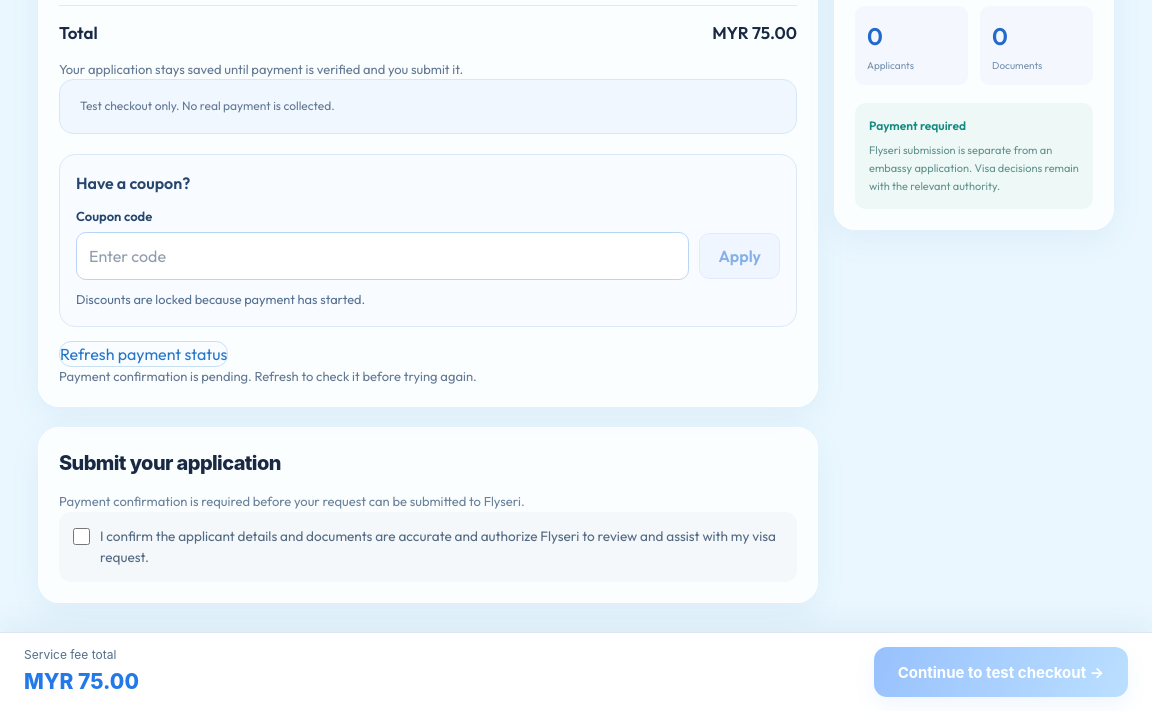
Test: visa payment before submission › keeps pending payment blocked and allows submission after authoritative refresh
(page scrolled)
Click the checkbox at (82, 537), box [73, 528, 90, 545]
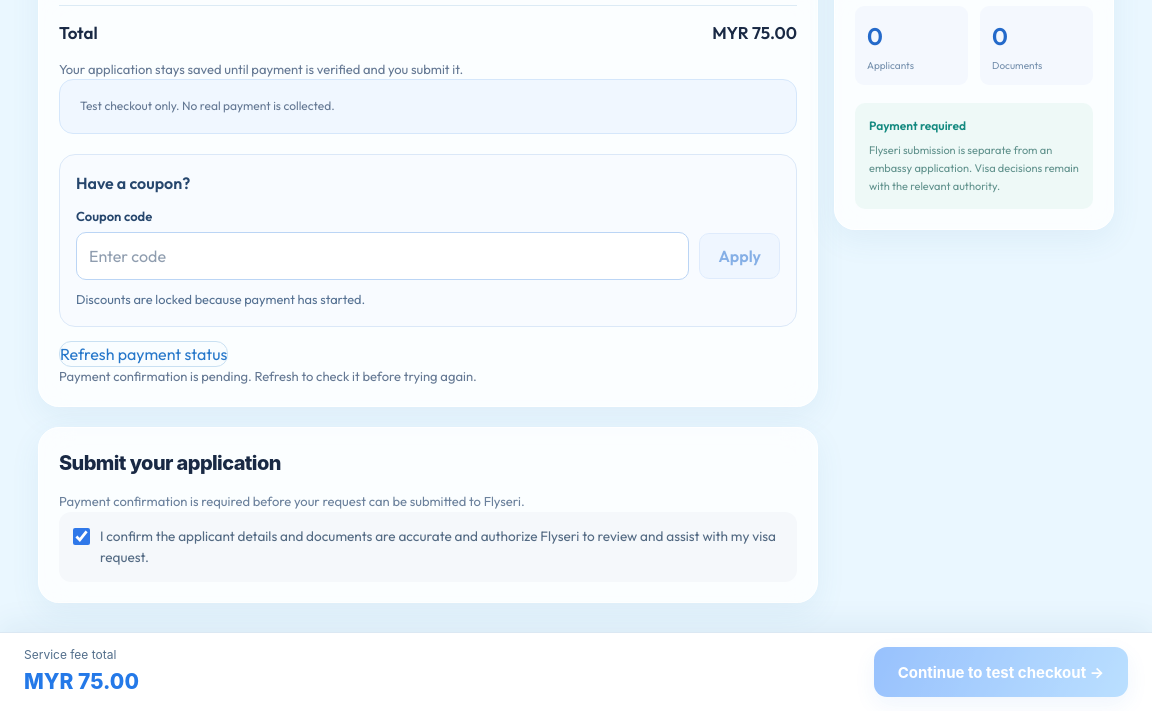
Expected: the button "Submit paid application →" is not shown
Click the button "Refresh payment status" at (144, 354), box [59, 340, 228, 366]
(page scrolled)
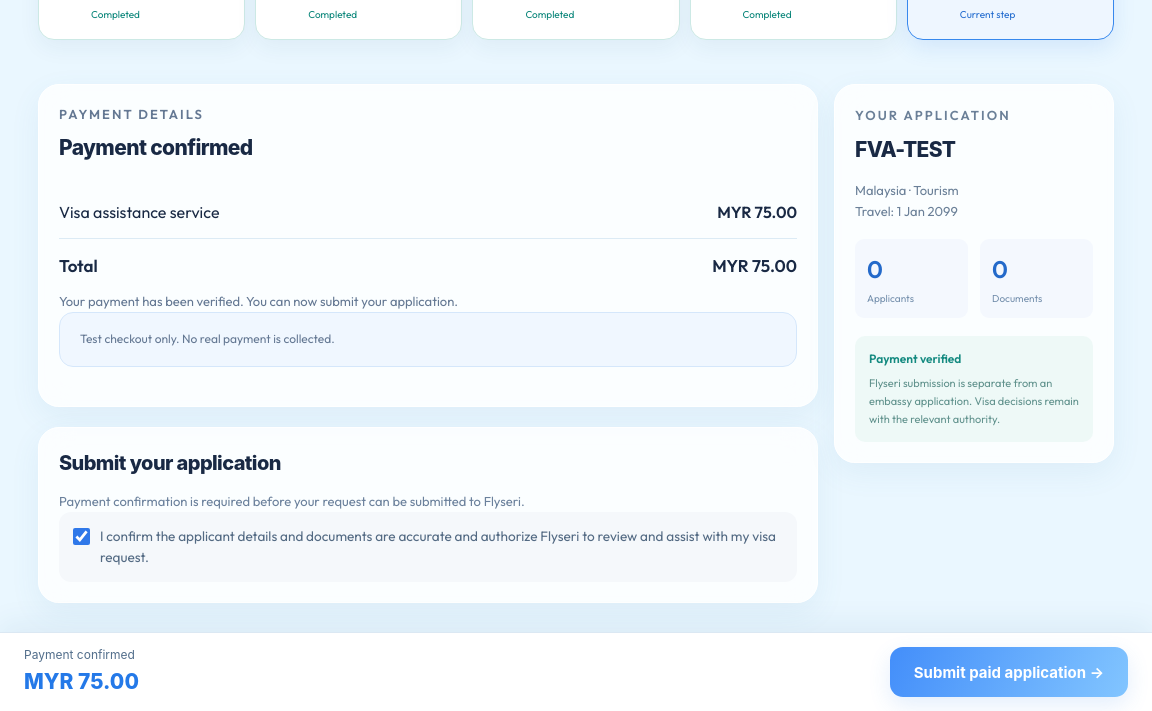
Expected: the heading "Payment confirmed" is shown, [59, 135, 253, 160]
Click the button "Submit paid application →" at (1009, 672), box [890, 647, 1128, 697]
(page scrolled)
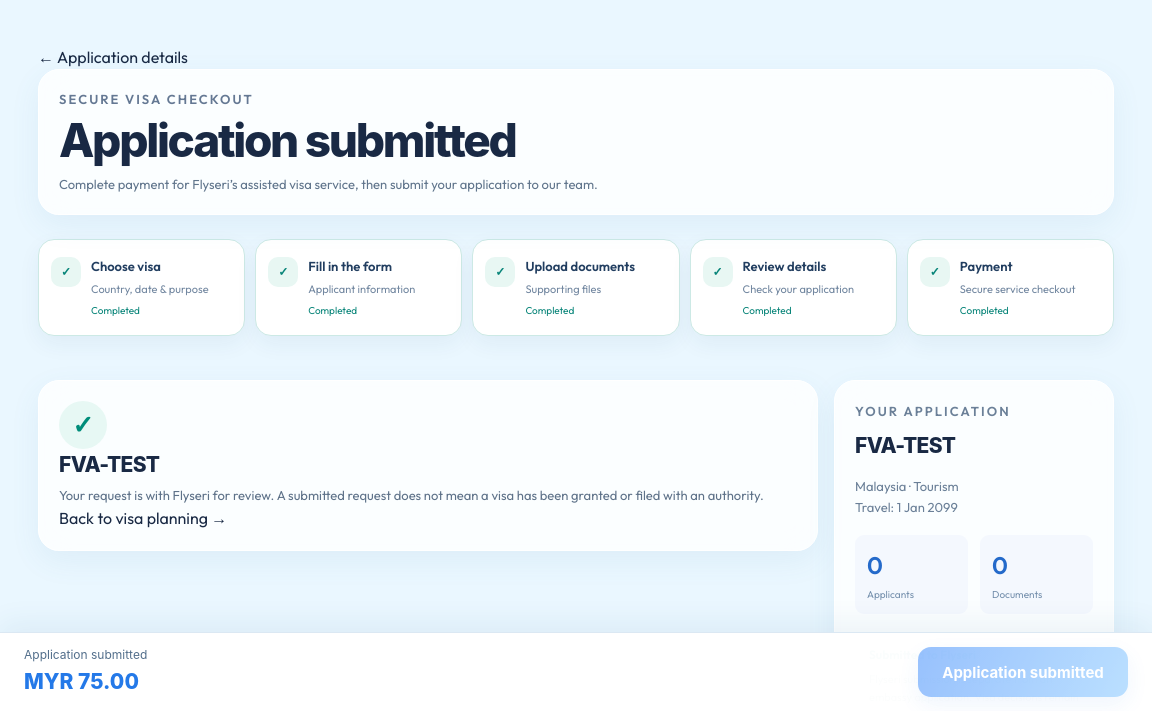
Expected: the heading "Application submitted" is shown, [59, 112, 516, 168]
